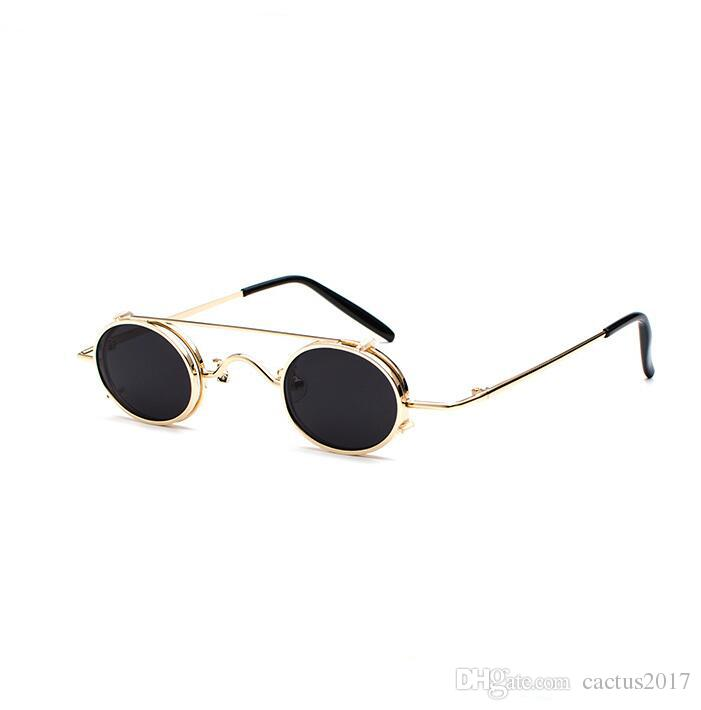sunglasses: (37, 282, 660, 467)
